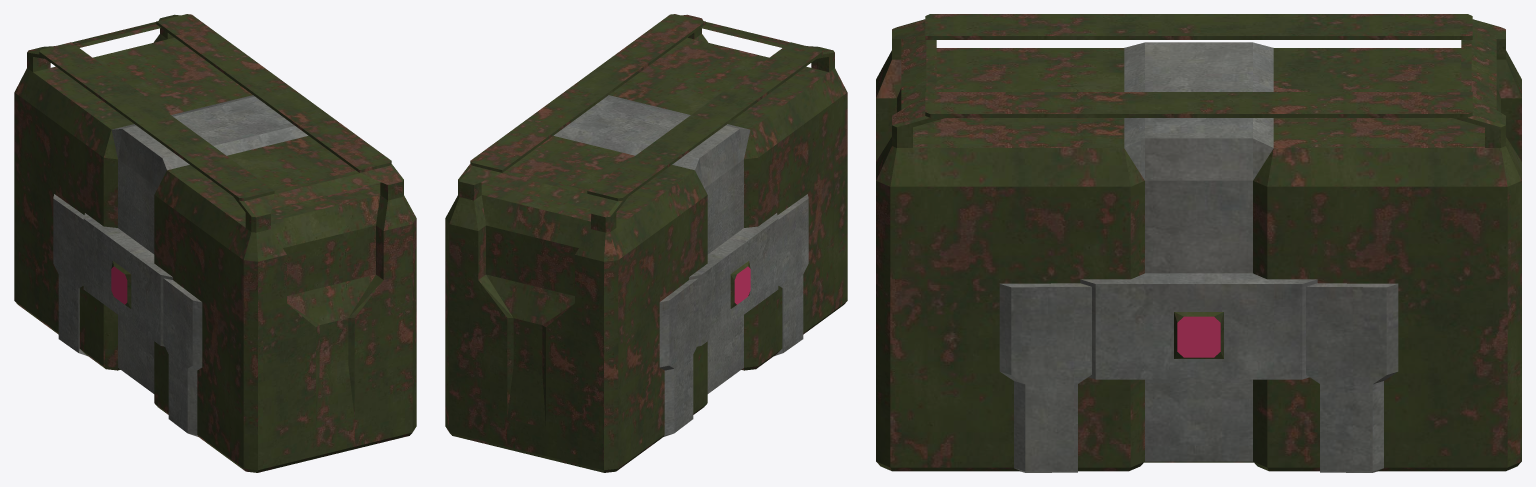
Rendered from future-crate.obj.
3 renders of one model, left to right at view 1: azimuth 30°, elevation 25°; view 2: azimuth 150°, elevation 25°; view 3: azimuth 270°, elevation 25°, orthographic. The views are drawn at different scales.
Parts seen in each view (by area): view 1: Mesh1 Crate1 Model; view 2: Mesh1 Crate1 Model; view 3: Mesh1 Crate1 Model.
Boxes of the visible parts, x1,y1,x2,y2 form: Mesh1 Crate1 Model: [14, 14, 416, 472]; Mesh1 Crate1 Model: [445, 14, 847, 472]; Mesh1 Crate1 Model: [876, 14, 1521, 472].
Size of the model in its own units: 1.44 by 1.92 by 3.11.
